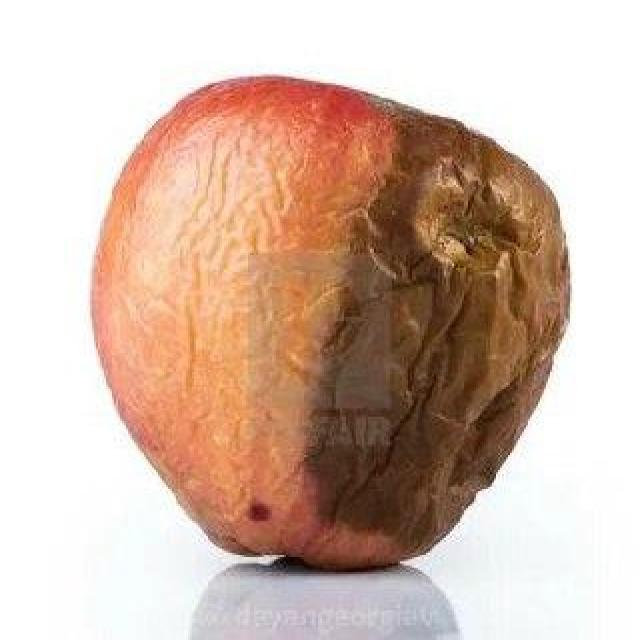rotten apple: (54, 52, 612, 616)
